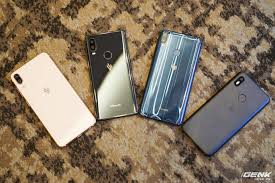vsmart: (9, 51, 99, 149), (138, 29, 200, 126), (83, 26, 135, 121)
